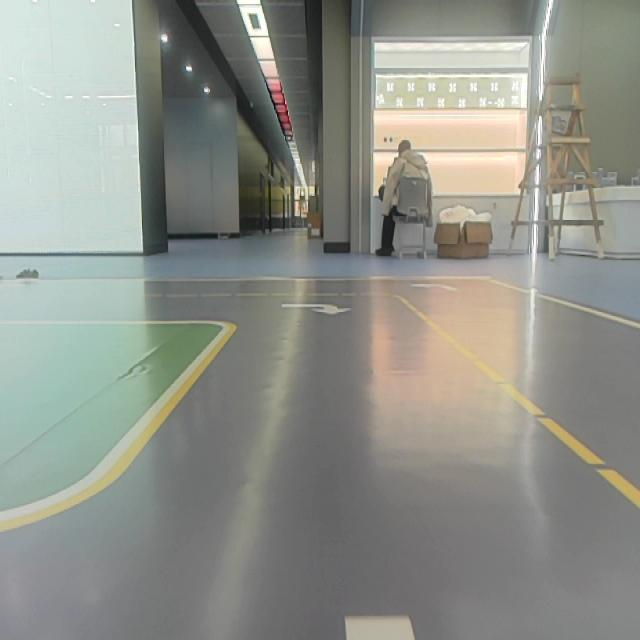left_lane: (400, 297, 638, 515)
right_lane: (95, 334, 237, 490), (497, 280, 639, 331)
